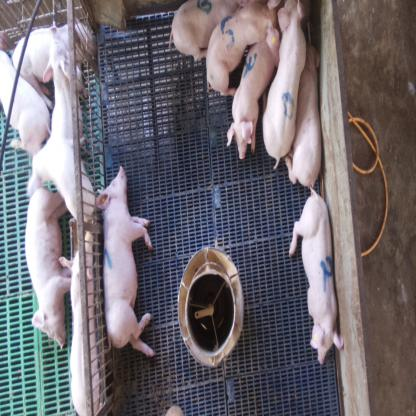2: (320, 255, 333, 290)
5: (221, 15, 234, 49)
7: (244, 52, 257, 79)
N-A: (282, 91, 294, 119)
